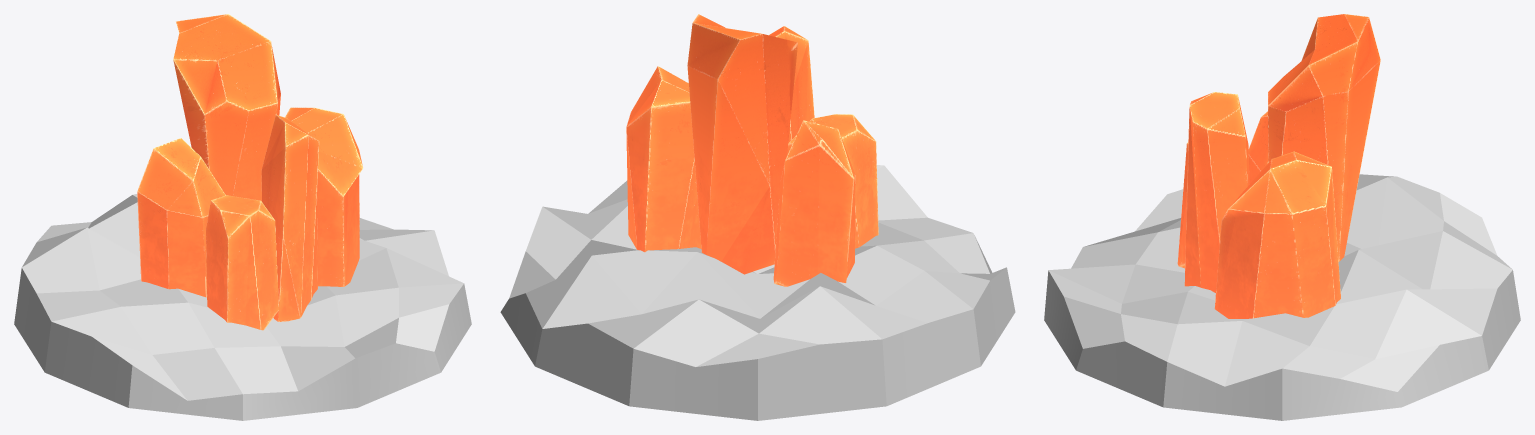
The picture shows the model from 3 angles, left to right: view 1: azimuth 30°, elevation 25°; view 2: azimuth 150°, elevation 25°; view 3: azimuth 270°, elevation 25°; orthographic projection. The views are drawn at different scales.
Parts seen in each view (by area): view 1: 6_zemin, 6_1; view 2: 6_zemin, 6_1; view 3: 6_zemin, 6_1.
Part boxes in pixels (x1=…): 6_zemin: x1=14, y1=194, x2=471, y2=420; 6_1: x1=137, y1=14, x2=362, y2=330; 6_zemin: x1=500, y1=165, x2=1015, y2=420; 6_1: x1=626, y1=14, x2=878, y2=286; 6_zemin: x1=1044, y1=174, x2=1520, y2=420; 6_1: x1=1177, y1=14, x2=1380, y2=318.
Bounding box in the file's own units: 868 × 583 × 868.
